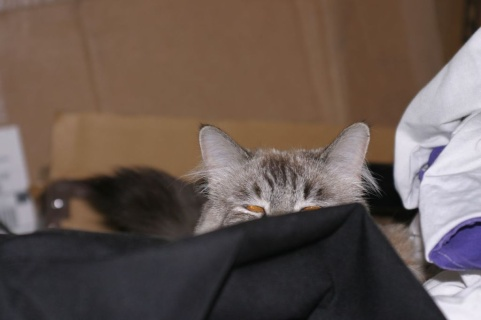Cat: (176, 123, 382, 236)
